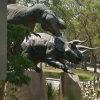Statue: (10, 1, 89, 78)
